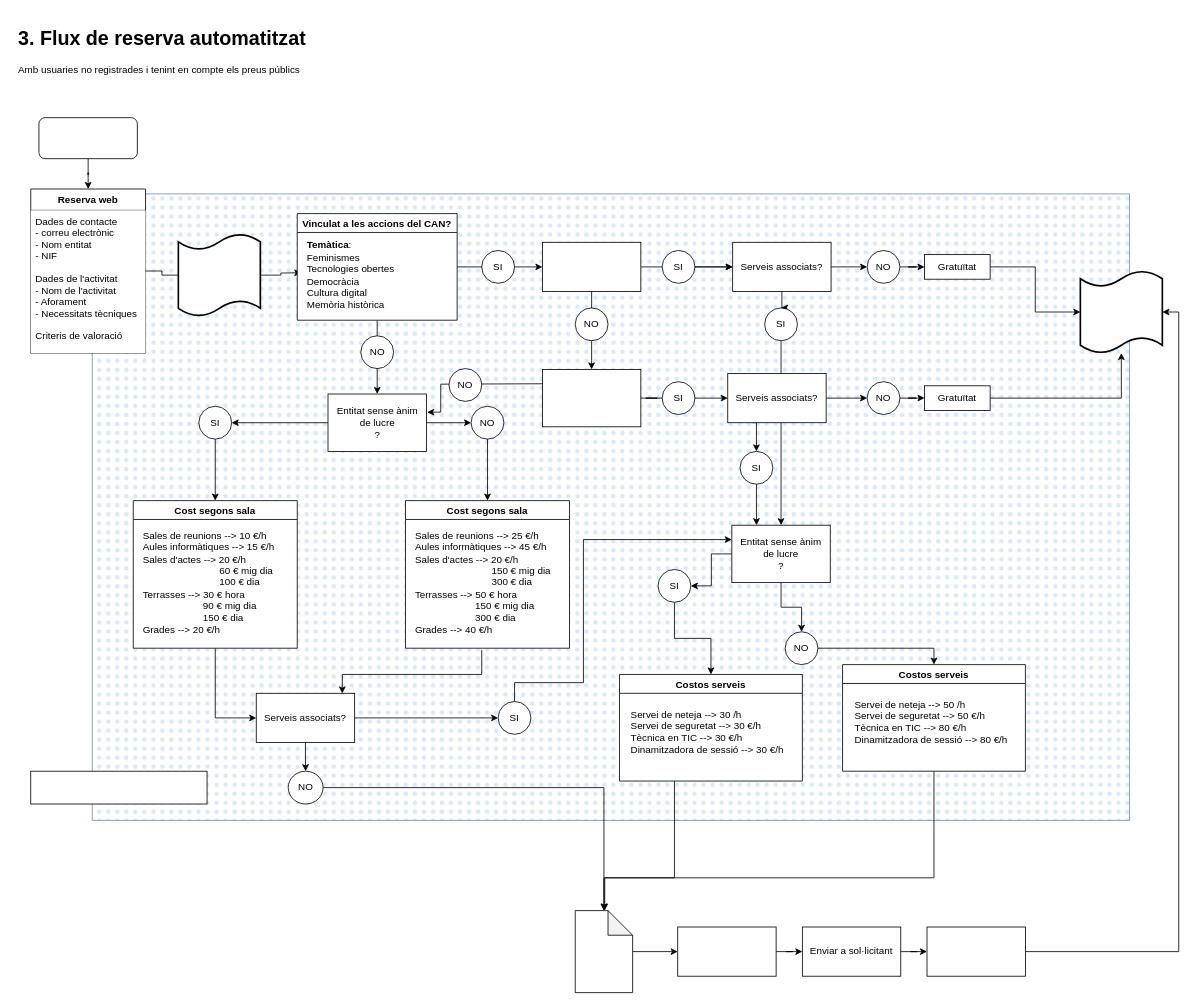
This 1200x1007 diagram has some shape labels left out. Here are the shapes that lost their labels. From the top down, the centre of each, then its label:
At point 87,138: "Usuària anònima".
At point 219,275: "Calendari de reserves web NOT AVAILABLE".
At point 591,266: "Activitat gratuïta oberta a la ciutadania?".
At point 1121,311: "Calendari de reserves web BOOKED".
At point 591,398: "Activitat gratuïta tancada adreçada als membres de l'organització".
At point 118,787: "Accions automatitzaades a la web".
At point 603,951: "Pressupost de cessió".
At point 726,951: "Validació Oficina".
At point 975,951: "Recepció de justificant".
